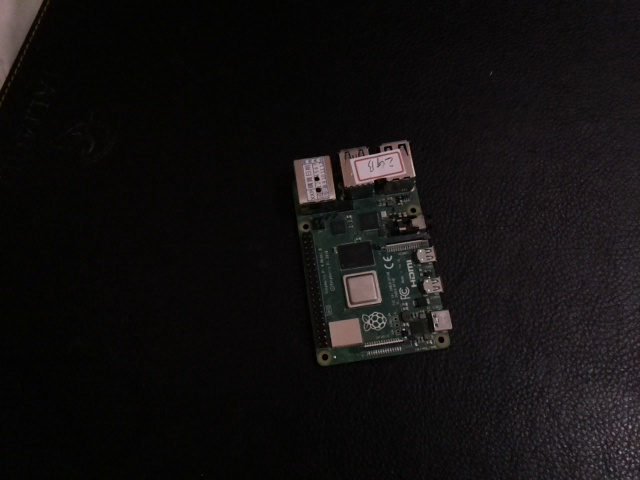pi4: (248, 135, 483, 370)
